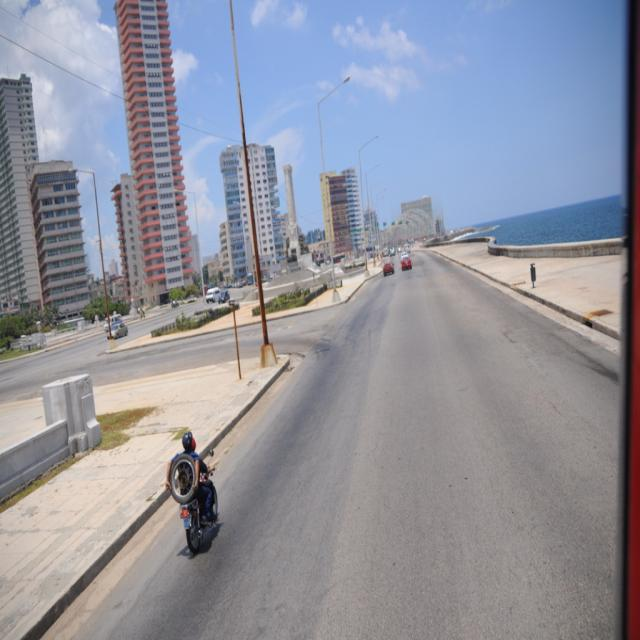Motorbikes: (168, 434, 223, 559)
